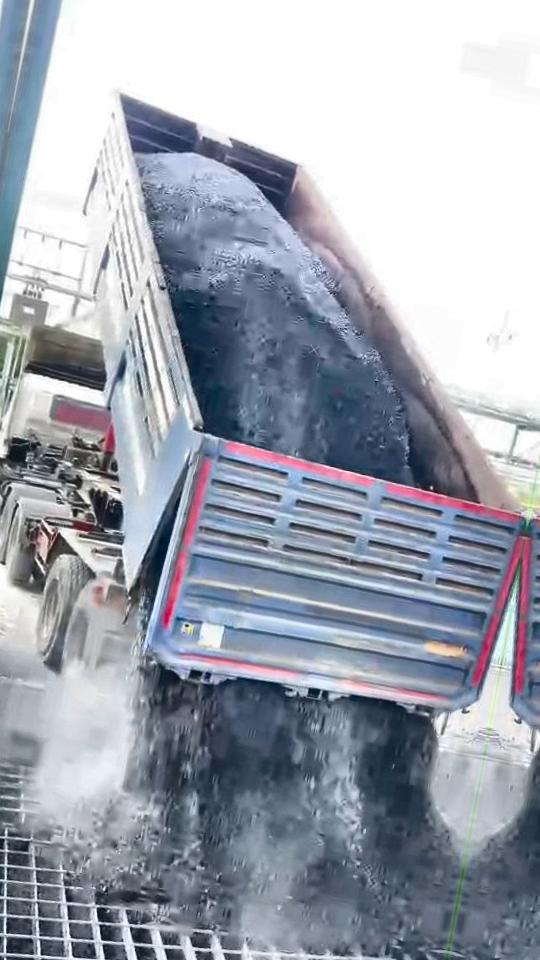gravel: (57, 672, 462, 954), (136, 153, 411, 483)
